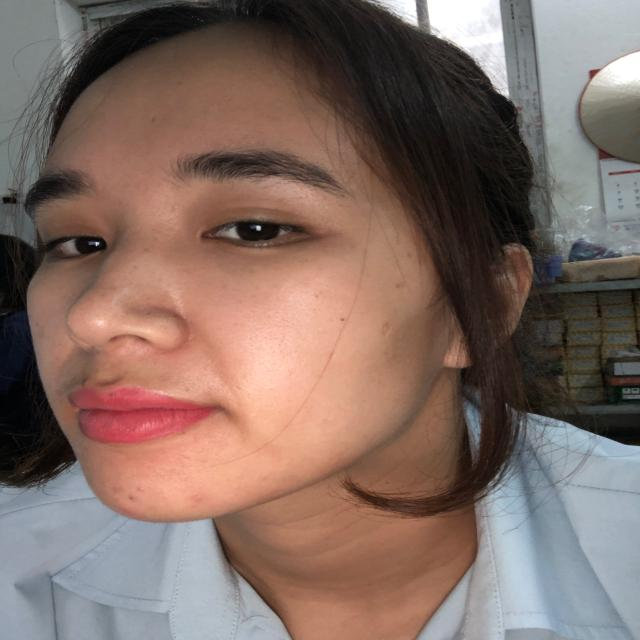Acne: (182, 493, 212, 509), (126, 504, 149, 518), (132, 482, 154, 496)
Blackheads: (92, 289, 192, 331)
Englarged-Pores: (222, 296, 327, 392)
